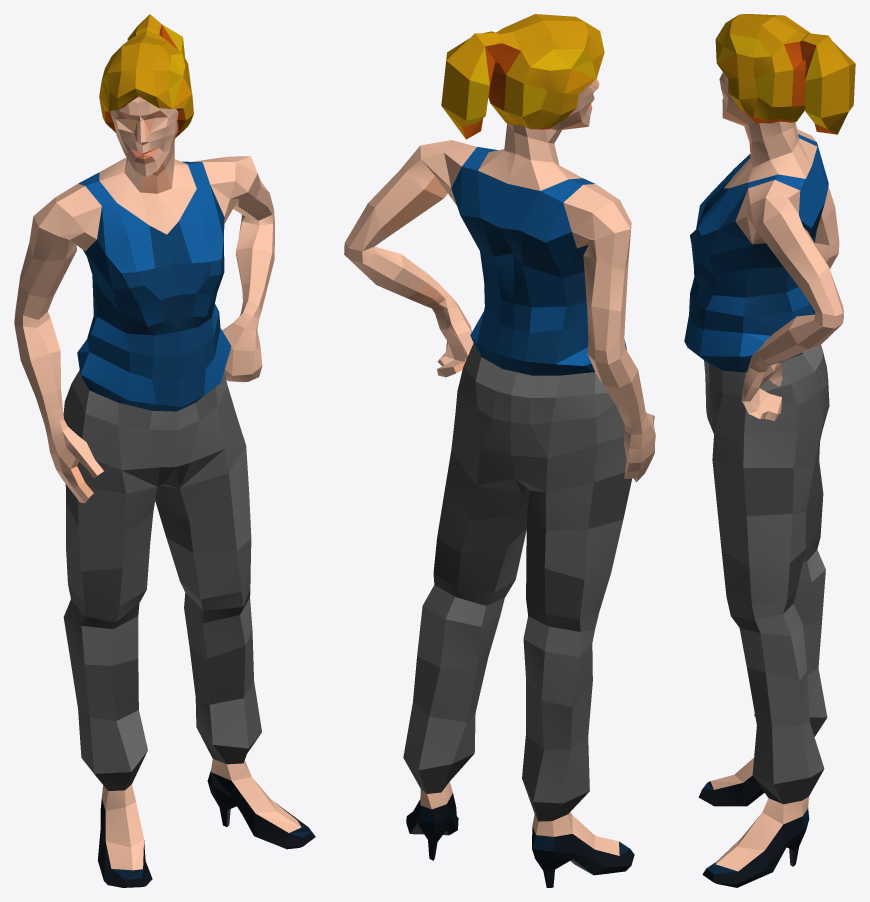
Rendered from woman.dae.
3 renders of one model, left to right at view 1: azimuth 30°, elevation 25°; view 2: azimuth 150°, elevation 25°; view 3: azimuth 270°, elevation 25°, orthographic. The views are drawn at different scales.
Parts seen in each view (by area): view 1: huitugou_2139_52; view 2: huitugou_2139_52; view 3: huitugou_2139_52.
Boxes of the visible parts, x1,y1,x2,y2 form: huitugou_2139_52: (14, 14, 315, 887); huitugou_2139_52: (344, 14, 655, 887); huitugou_2139_52: (684, 14, 855, 887).
Bounding box in the file's own units: 0.5753 × 0.3316 × 1.71.
Materials: 1 (1 with a texture image).
